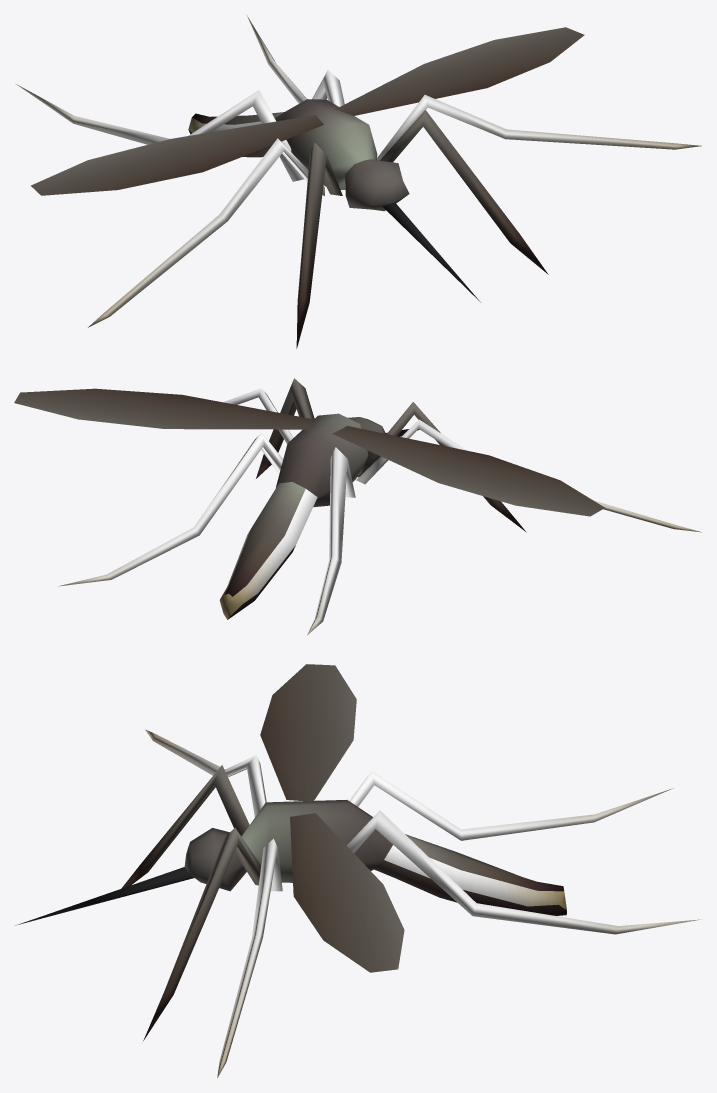
Rendered from SM_Mosquito.fbx.
The picture shows the model from 3 angles, top to bottom: view 1: azimuth 30°, elevation 25°; view 2: azimuth 150°, elevation 25°; view 3: azimuth 270°, elevation 25°; orthographic projection. The views are drawn at different scales.
Visible parts, largest first — view 1: SM_Mosquito_LOD0; view 2: SM_Mosquito_LOD0; view 3: SM_Mosquito_LOD0.
Boxes of the visible parts, left/top/right/bottom form: SM_Mosquito_LOD0: left=15, top=15, right=701, bottom=348; SM_Mosquito_LOD0: left=14, top=378, right=701, bottom=635; SM_Mosquito_LOD0: left=15, top=664, right=701, bottom=1077.
Size of what is drawn, in the model's own units: 0.6117 by 0.1396 by 0.5094.
